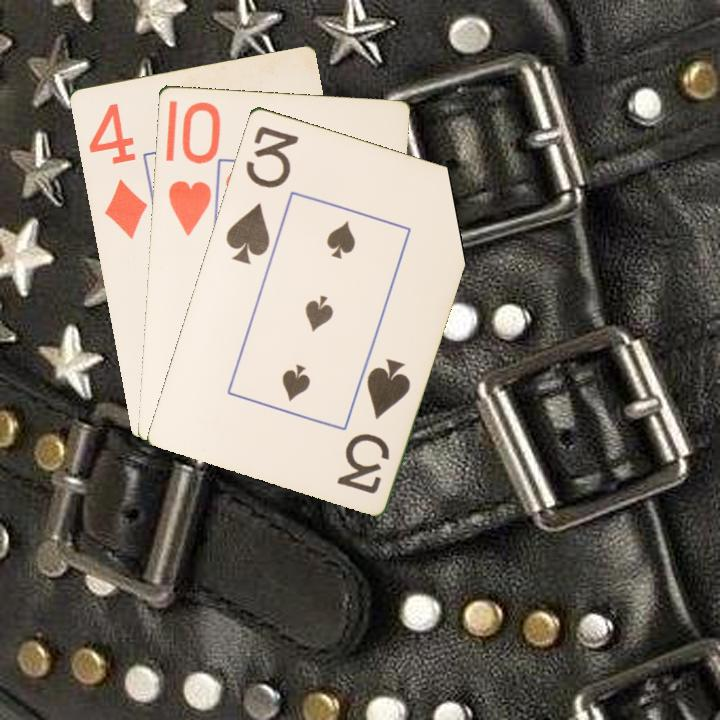10h: (164, 97, 219, 239)
3s: (221, 121, 301, 267), (333, 354, 413, 496)
4d: (84, 99, 150, 242)
